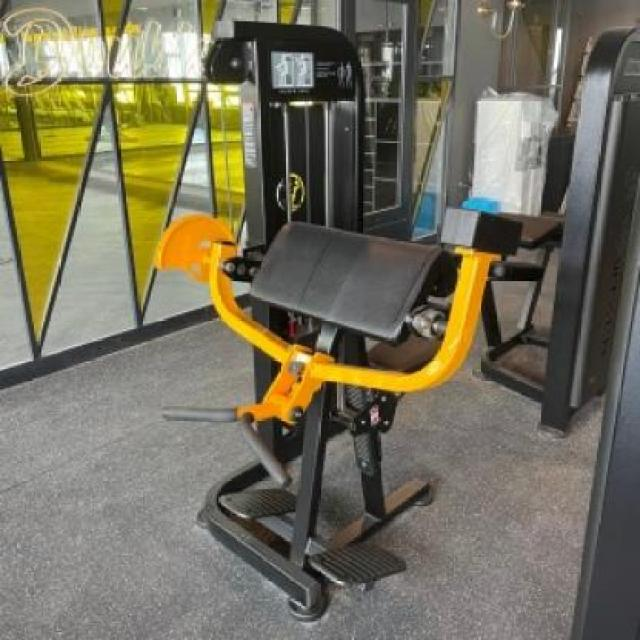arm curl machine: (155, 208, 528, 624)
